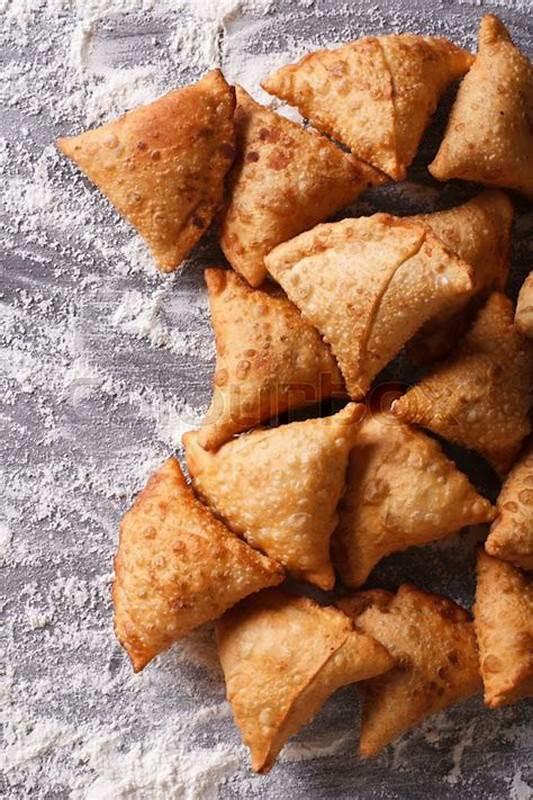Samosa: (185, 387, 363, 607), (268, 223, 477, 407), (57, 61, 227, 277), (214, 89, 381, 287), (327, 402, 493, 595), (115, 466, 266, 673), (266, 33, 471, 179), (225, 600, 390, 777), (199, 265, 339, 445), (390, 297, 533, 455), (359, 585, 477, 765), (432, 13, 533, 191)
